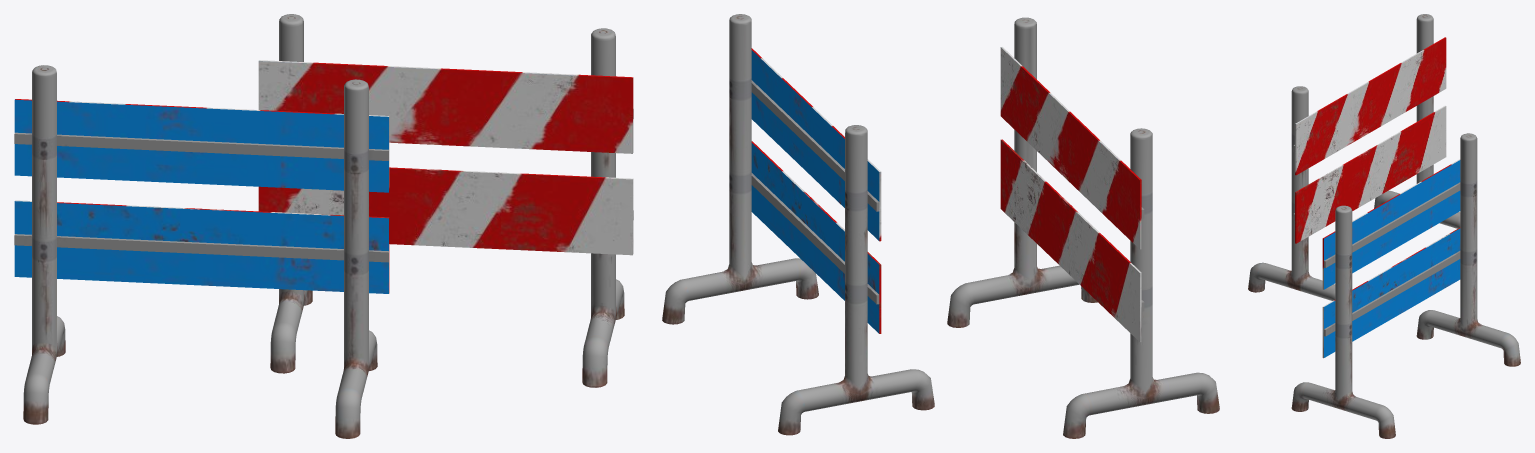
The model's file is o3_cantiere_07.glb.
3 renders of one model, left to right at view 1: azimuth 30°, elevation 25°; view 2: azimuth 150°, elevation 25°; view 3: azimuth 270°, elevation 25°, orthographic. The views are drawn at different scales.
Parts seen in each view (by area): view 1: sb_modello; view 2: sb_modello; view 3: sb_modello.
Boxes of the visible parts, <box> form: sb_modello: <box>14,14,633,438</box>; sb_modello: <box>662,14,1219,438</box>; sb_modello: <box>1248,14,1520,438</box>.
Size of the model in its own units: 2.26 by 1.28 by 1.31.
Materials: 2 (2 with a texture image).
